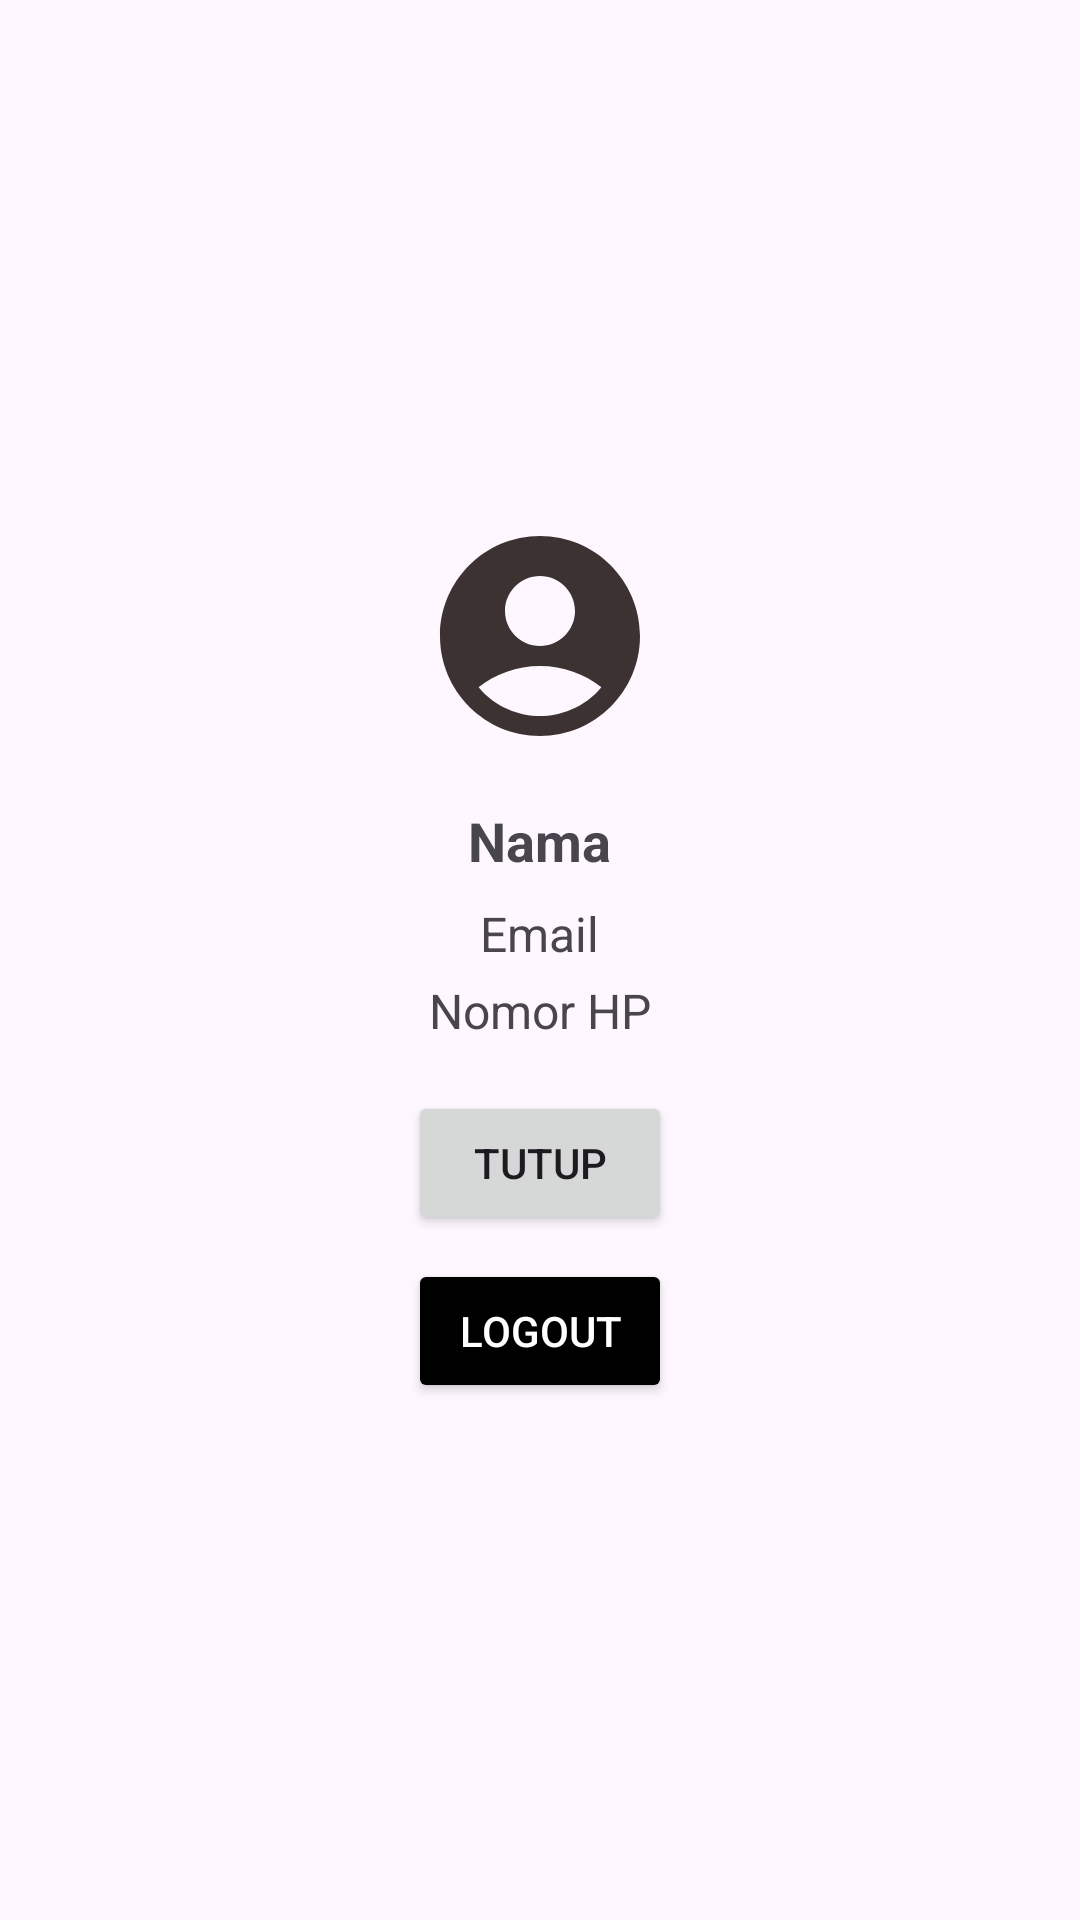

Where to tap for icons on this 1080 × 1920 app screen, as (x=x, y=y):
profile: (x=540, y=636)
